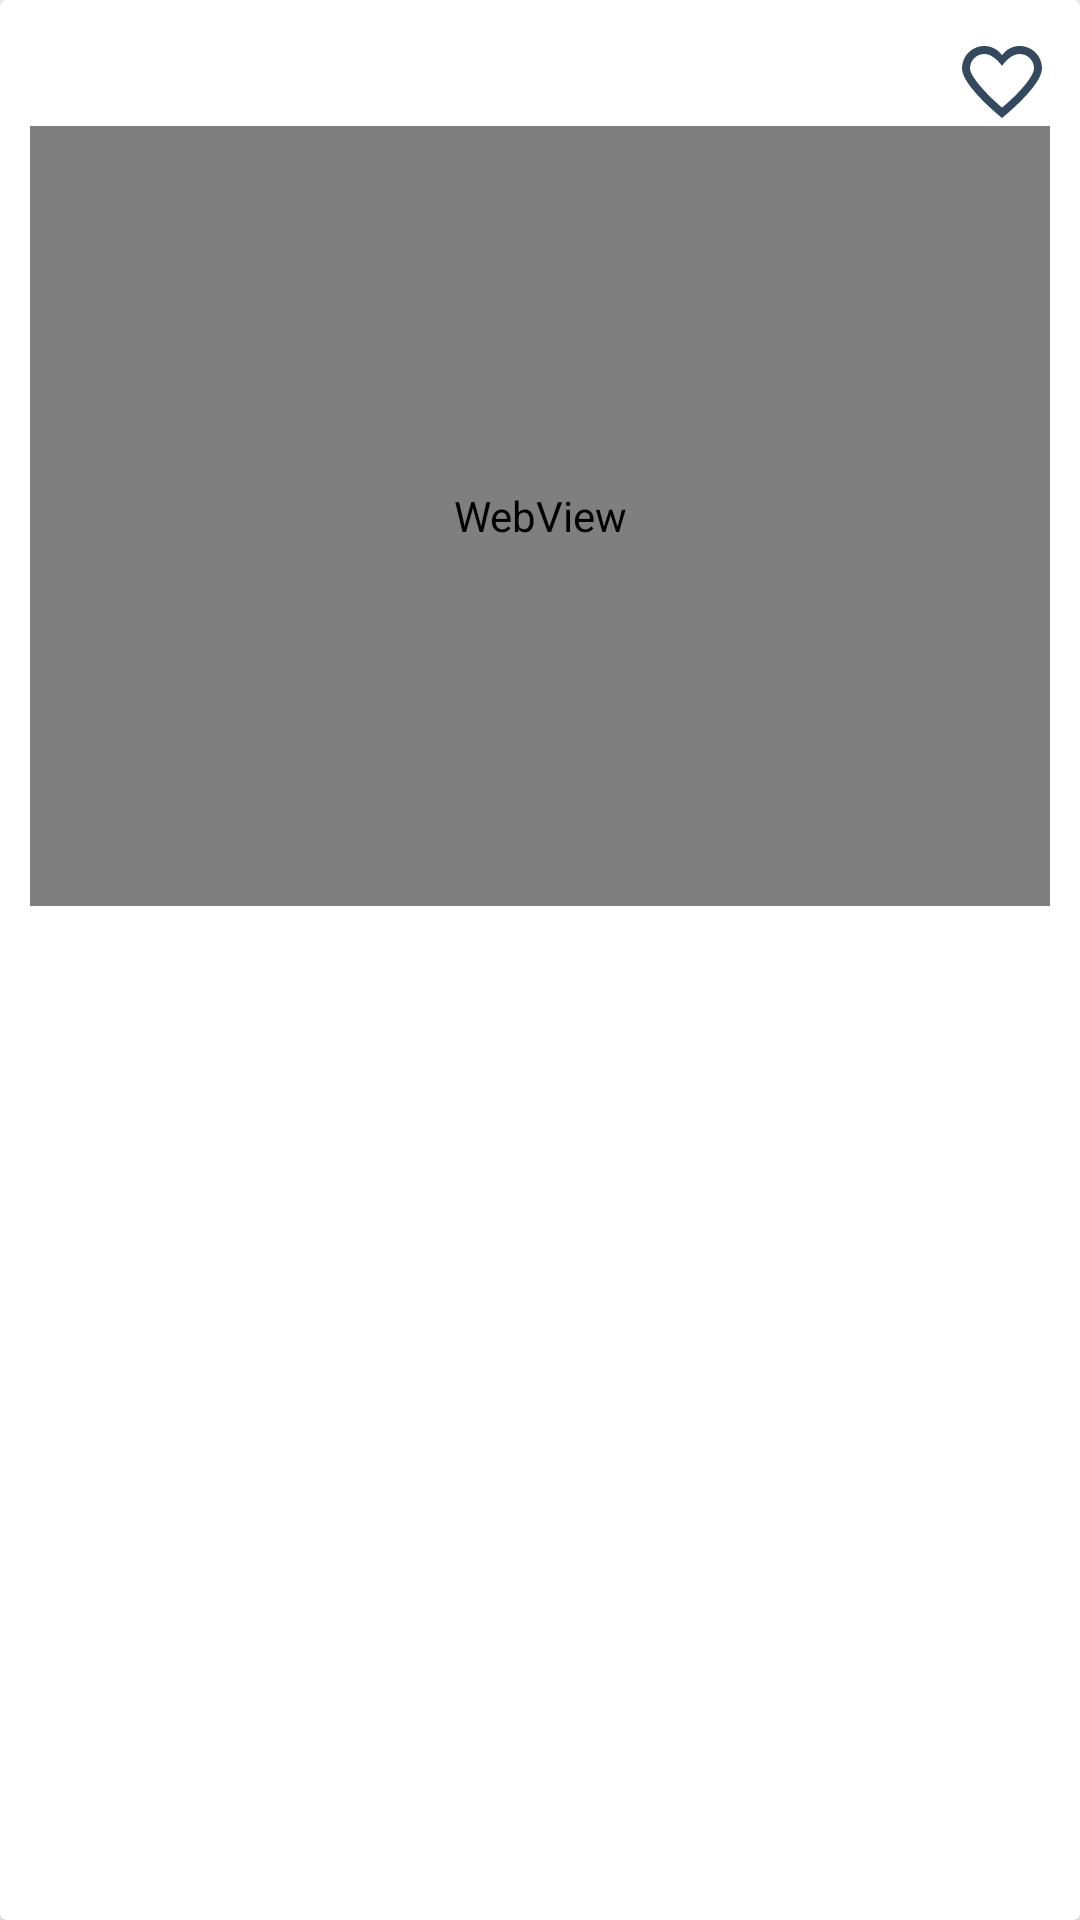

Screen size 1080×1920. Icon name, then its center in pixels as (x,y):
unlike: (1002,82)
